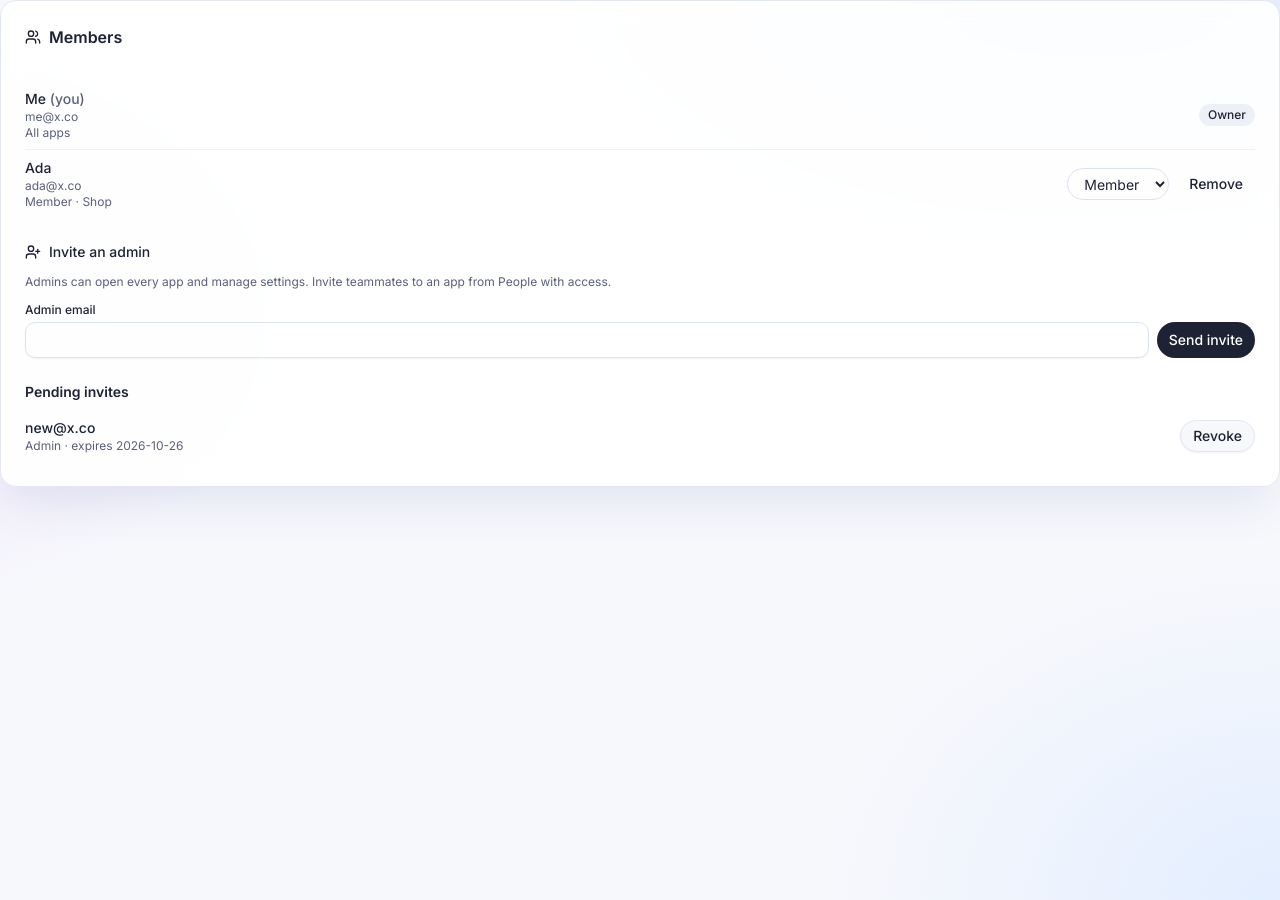
it: Members (OWNER) › surfaces the last-owner error from the API
Click the button named "Remove ada@x.co": coordinates (1216, 184) [1177,168,1255,200]
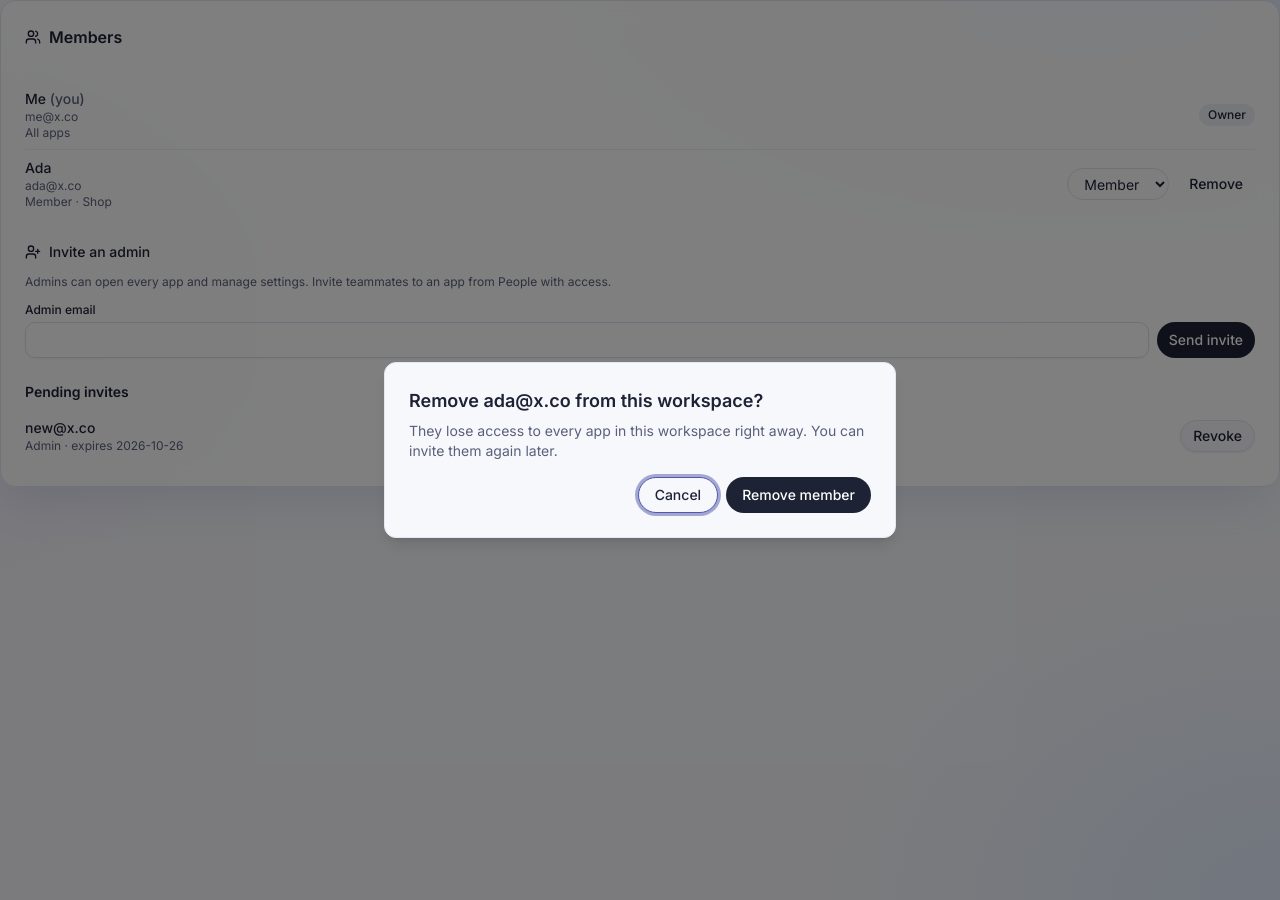
Click the button "Remove member": coordinates (799, 495) [726,477,871,513]
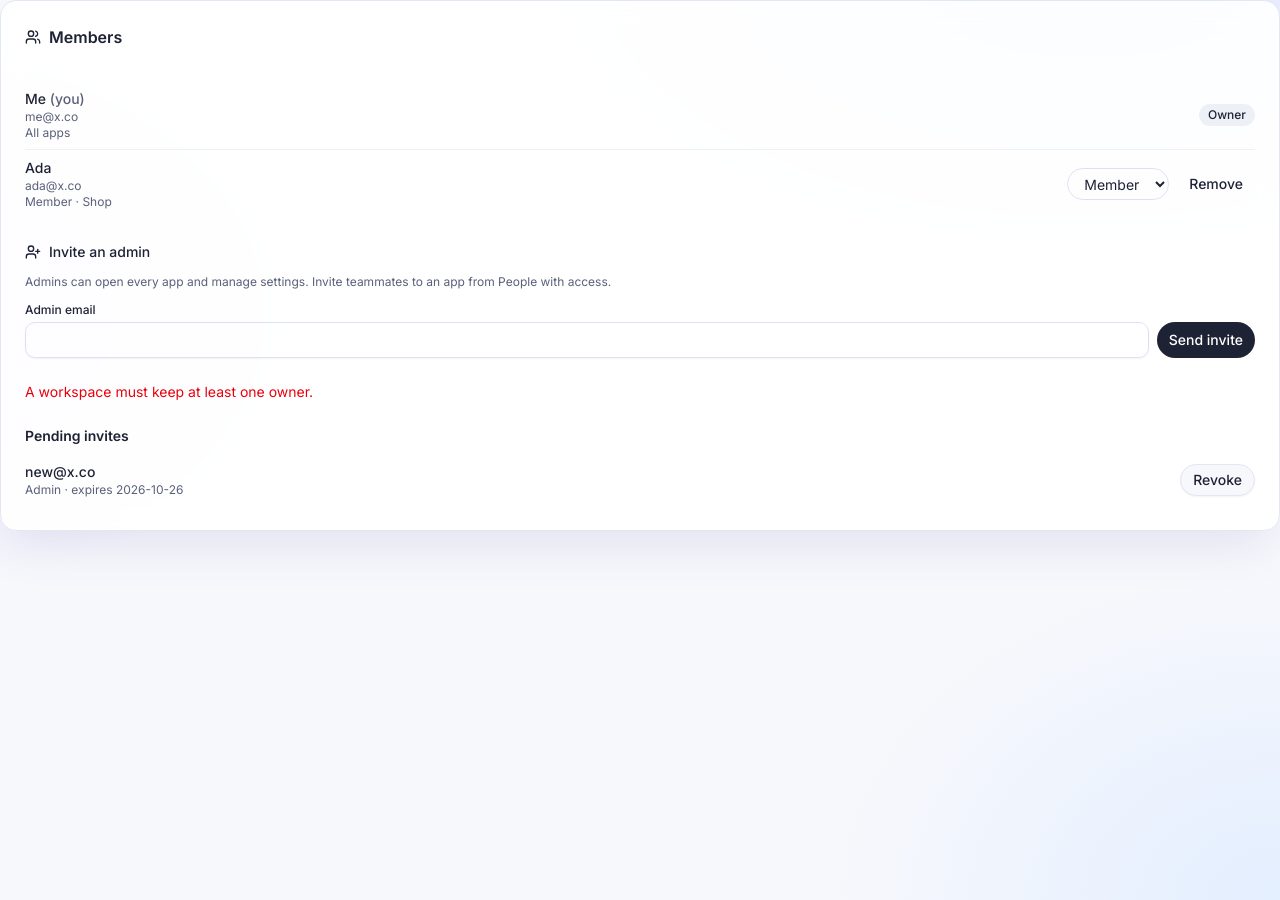
Expected: the text "ada@x.co" is shown, [25,178,82,193]
Now the message reads "A workspace must keep at least one owner.", box [25,383,313,400]
